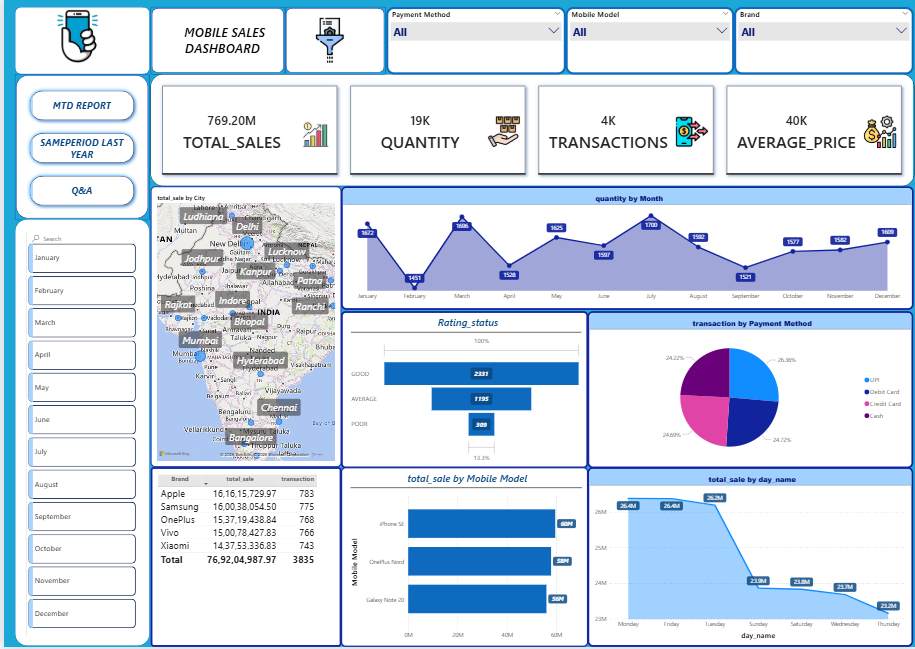

The dashboard page shown, as its layout file describes it:
{"tool":"powerbi","page":{"name":"dashboard","canvas":[1950,1390],"ordinal":0},"visuals":[{"type":"shape","box":[24,24,288,144],"z":0},{"type":"image","box":[72,24,168,120],"z":1000},{"type":"shape","box":[24,168,288,312],"z":2000},{"type":"shape","box":[24,478,288,912],"z":3000},{"type":"advancedSlicerVisual","fields":{"Values":["calendar.date.Variation.Date Hierarchy.Month"]},"box":[48,504,240,864],"z":4000},{"type":"cardVisual","fields":{"Data":["mobile_sales.total_sale","mobile_sales.quantity","mobile_sales.transaction","mobile_sales.average_price"]},"box":[312,168,1632,240],"z":5000},{"type":"slicer","fields":{"Values":["mobile_sales.Mobile Model"]},"box":[1200,24,360,144],"z":6000},{"type":"slicer","fields":{"Values":["mobile_sales.Brand"]},"box":[1560,24,384,144],"z":7000},{"type":"slicer","fields":{"Values":["mobile_sales.Payment Method"]},"box":[816,24,384,144],"z":8000},{"type":"shape","box":[600,24,216,144],"z":9000},{"type":"image","box":[600,48,192,96],"z":10000},{"type":"shape","box":[312,24,288,144],"z":11000},{"type":"textbox","box":[360,48,216,96],"z":12000},{"type":"map","fields":{"Category":["mobile_sales.City"],"Size":["mobile_sales.total_sale"]},"box":[312,408,408,600],"z":13000},{"type":"lineChart","fields":{"Category":["calendar.date.Variation.Date Hierarchy.Month"],"Y":["mobile_sales.quantity"]},"box":[720,408,1224,264],"z":14000},{"type":"funnel","title":"Rating_status","fields":{"Y":["CountNonNull(mobile_sales.Rating_status)"],"Category":["mobile_sales.Rating_status"]},"box":[720,672,528,336],"z":15000},{"type":"pieChart","fields":{"Y":["mobile_sales.transaction"],"Category":["mobile_sales.Payment Method"]},"box":[1248,672,696,336],"z":16000},{"type":"clusteredBarChart","fields":{"Y":["mobile_sales.total_sale"],"Category":["mobile_sales.Mobile Model"]},"box":[720,1006,528,384],"z":17000},{"type":"areaChart","fields":{"Y":["mobile_sales.total_sale"],"Category":["calendar.day_name"]},"box":[1248,1006,696,384],"z":18000},{"type":"tableEx","fields":{"Values":["mobile_sales.Brand","mobile_sales.total_sale","mobile_sales.transaction"]},"box":[312,1006,408,384],"z":19000},{"type":"pageNavigator","box":[48,192,240,264],"z":20001}]}

Visuals, with their boxes in screenshot pixels (x1, y1, x2, y2), scaled from the page's 1950x1390 canvas onto the 915x649 screenshot:
shape: [11,11,146,78]
image: [34,11,113,67]
shape: [11,78,146,224]
shape: [11,223,146,648]
advancedSlicerVisual - calendar.date.Variation.Date Hierarchy.Month: [23,235,135,639]
cardVisual - mobile_sales.total_sale x mobile_sales.quantity: [146,78,912,190]
slicer - mobile_sales.Mobile Model: [563,11,732,78]
slicer - mobile_sales.Brand: [732,11,912,78]
slicer - mobile_sales.Payment Method: [383,11,563,78]
shape: [282,11,383,78]
image: [282,22,372,67]
shape: [146,11,282,78]
textbox: [169,22,270,67]
map - mobile_sales.City x mobile_sales.total_sale: [146,190,338,471]
lineChart - calendar.date.Variation.Date Hierarchy.Month x mobile_sales.quantity: [338,190,912,314]
"Rating_status" funnel: [338,314,586,471]
pieChart - mobile_sales.transaction x mobile_sales.Payment Method: [586,314,912,471]
clusteredBarChart - mobile_sales.total_sale x mobile_sales.Mobile Model: [338,470,586,648]
areaChart - mobile_sales.total_sale x calendar.day_name: [586,470,912,648]
tableEx - mobile_sales.Brand x mobile_sales.total_sale: [146,470,338,648]
pageNavigator: [23,90,135,213]
